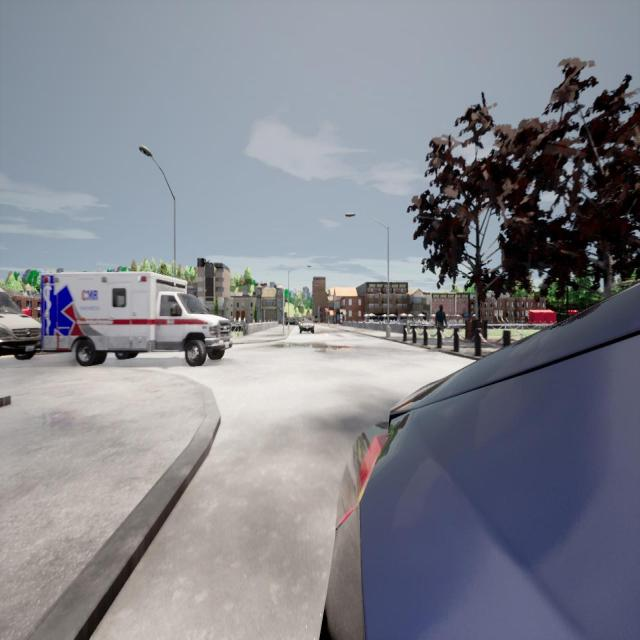Pedestrian: (435, 301, 448, 332)
Vehicle: (322, 280, 640, 640), (42, 274, 233, 368), (1, 279, 40, 357), (297, 317, 315, 335), (284, 318, 298, 326)
